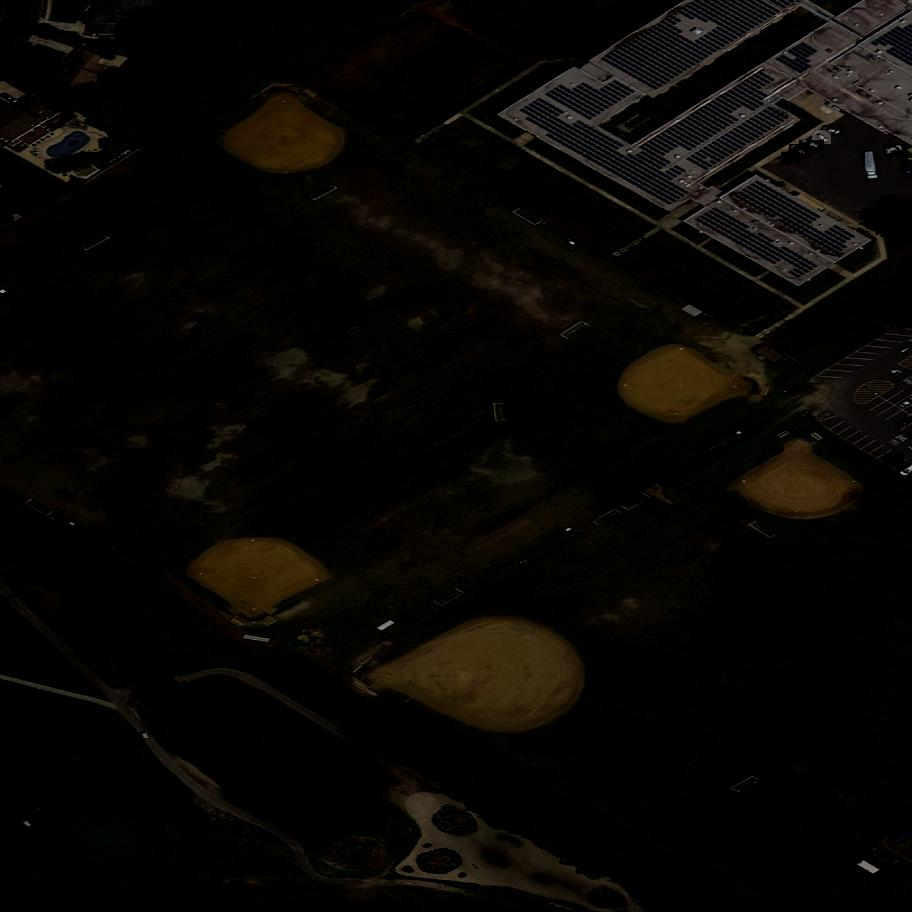large-vehicle: (866, 151, 881, 182)
small-vehicle: (884, 450, 905, 471), (820, 122, 844, 138), (812, 128, 832, 147), (799, 139, 824, 154), (789, 143, 811, 160), (885, 143, 906, 158), (782, 151, 802, 165)
